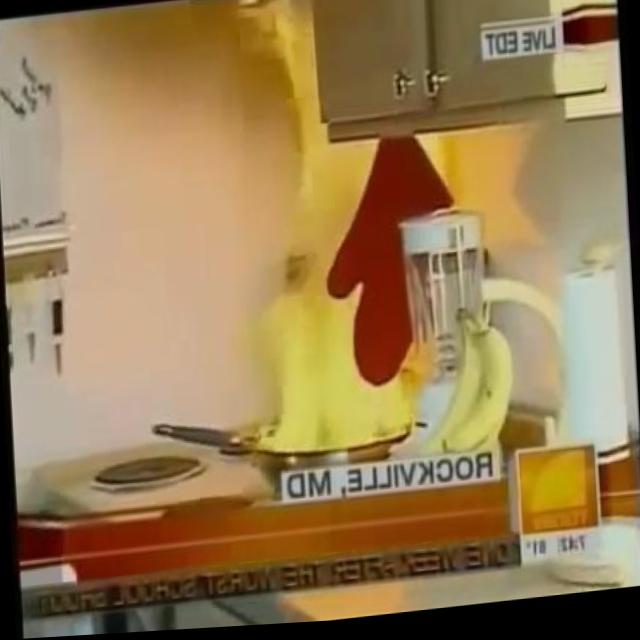fire: (235, 132, 424, 472)
